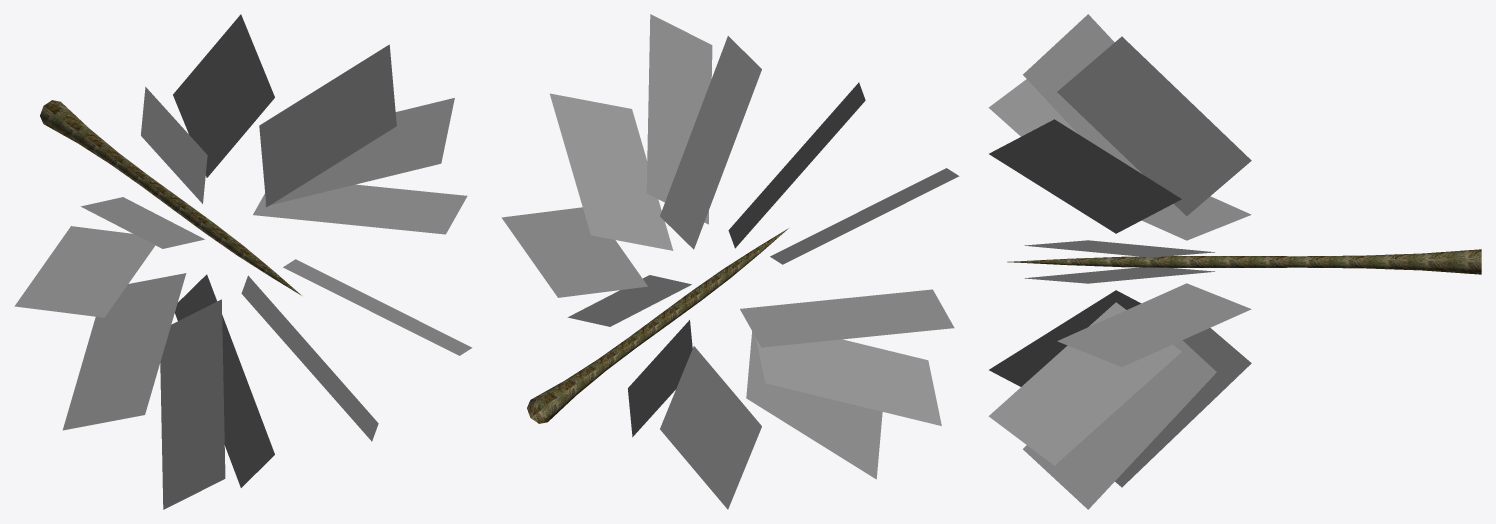
Rendered from great_succ_bb1.obj.
3 renders of one model, left to right at view 1: azimuth 30°, elevation 25°; view 2: azimuth 150°, elevation 25°; view 3: azimuth 270°, elevation 25°, orthographic. The views are drawn at different scales.
Visible parts, largest first — view 1: plant_pmat3, plant_pmat1; view 2: plant_pmat3, plant_pmat1; view 3: plant_pmat3, plant_pmat1.
Boxes of the visible parts, left/top/right/bottom form: plant_pmat3: left=14, top=14, right=472, bottom=509; plant_pmat1: left=40, top=100, right=301, bottom=295; plant_pmat3: left=501, top=14, right=959, bottom=509; plant_pmat1: left=527, top=228, right=788, bottom=423; plant_pmat3: left=988, top=14, right=1251, bottom=509; plant_pmat1: left=1007, top=249, right=1481, bottom=274.
Bounding box in the file's own units: 8.72 × 8.72 × 8.63.
